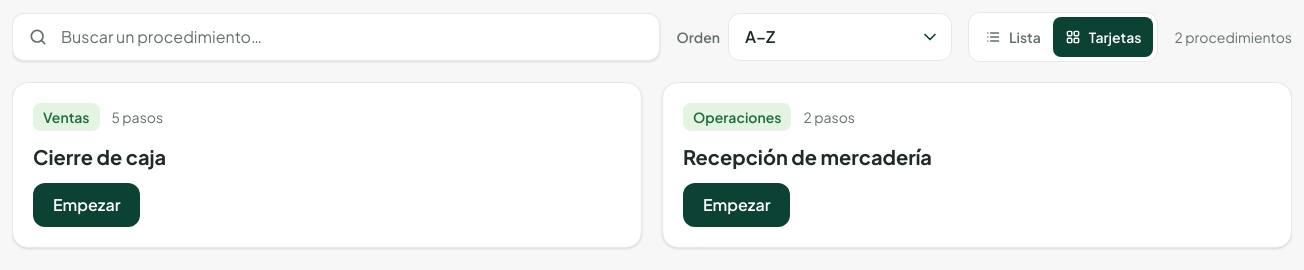
Test case: searching › no results: says what was searched and clearing it brings every card back
In the search field labelled "Buscar un procedimiento": (336, 37) x1=12 y1=13 x2=660 y2=61, type "xyz"
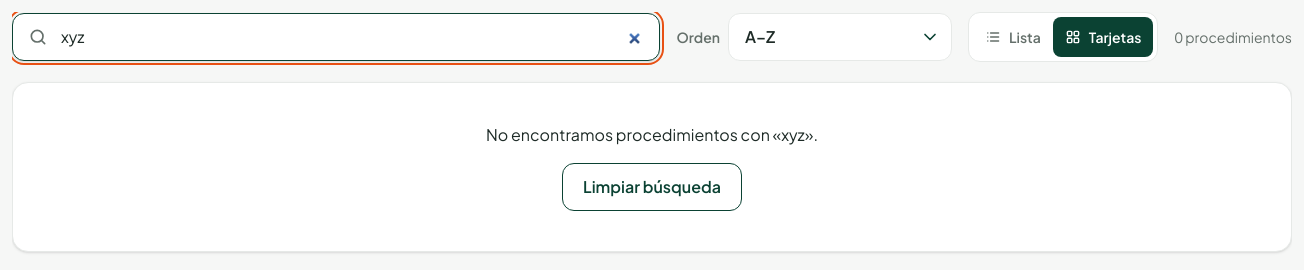
Now the text "No encontramos procedimientos con «xyz»." is shown, box x1=486 y1=123 x2=818 y2=147
Now the text "0 procedimientos" is shown, box x1=1174 y1=27 x2=1292 y2=47
Now the heading "Cierre de caja" is gone
Click the button "Limpiar búsqueda": (652, 187) x1=562 y1=163 x2=742 y2=211
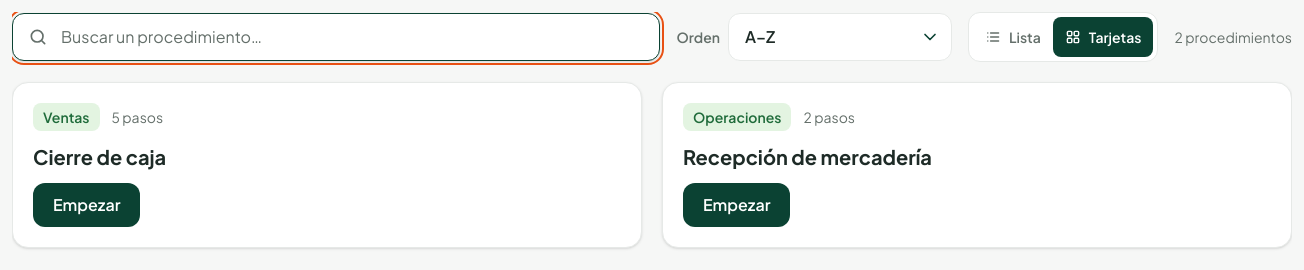
Now the search field labelled "Buscar un procedimiento" is empty, box x1=12 y1=13 x2=660 y2=61
